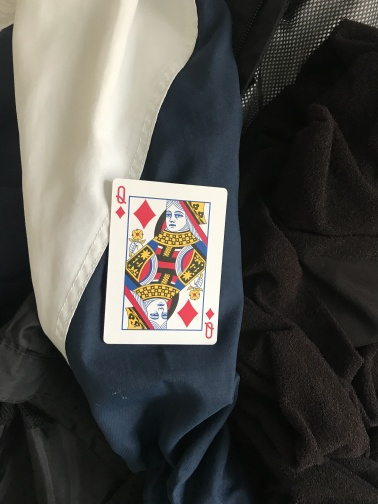queen: (102, 177, 229, 346)
